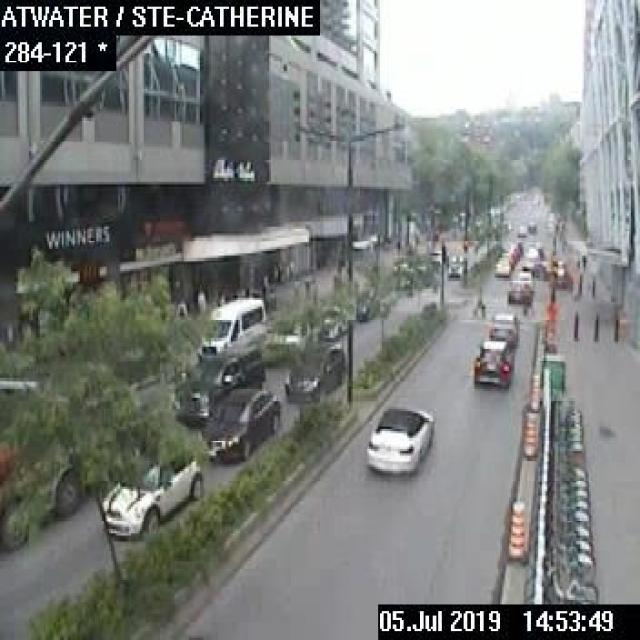construction: (504, 499, 525, 559), (522, 411, 534, 458), (527, 372, 540, 411), (545, 300, 557, 319)
pedestrian: (470, 282, 486, 316), (519, 281, 534, 317), (578, 249, 586, 272)
vehicle: (0, 407, 89, 553), (104, 446, 200, 538), (169, 347, 264, 425), (197, 386, 279, 460), (366, 404, 433, 474), (196, 296, 264, 356), (284, 340, 344, 402), (473, 338, 512, 386), (317, 304, 347, 339), (488, 311, 518, 345), (355, 286, 378, 320), (506, 277, 533, 304), (492, 254, 509, 276), (446, 260, 462, 276), (428, 249, 441, 261), (516, 225, 526, 235), (527, 221, 536, 232)
